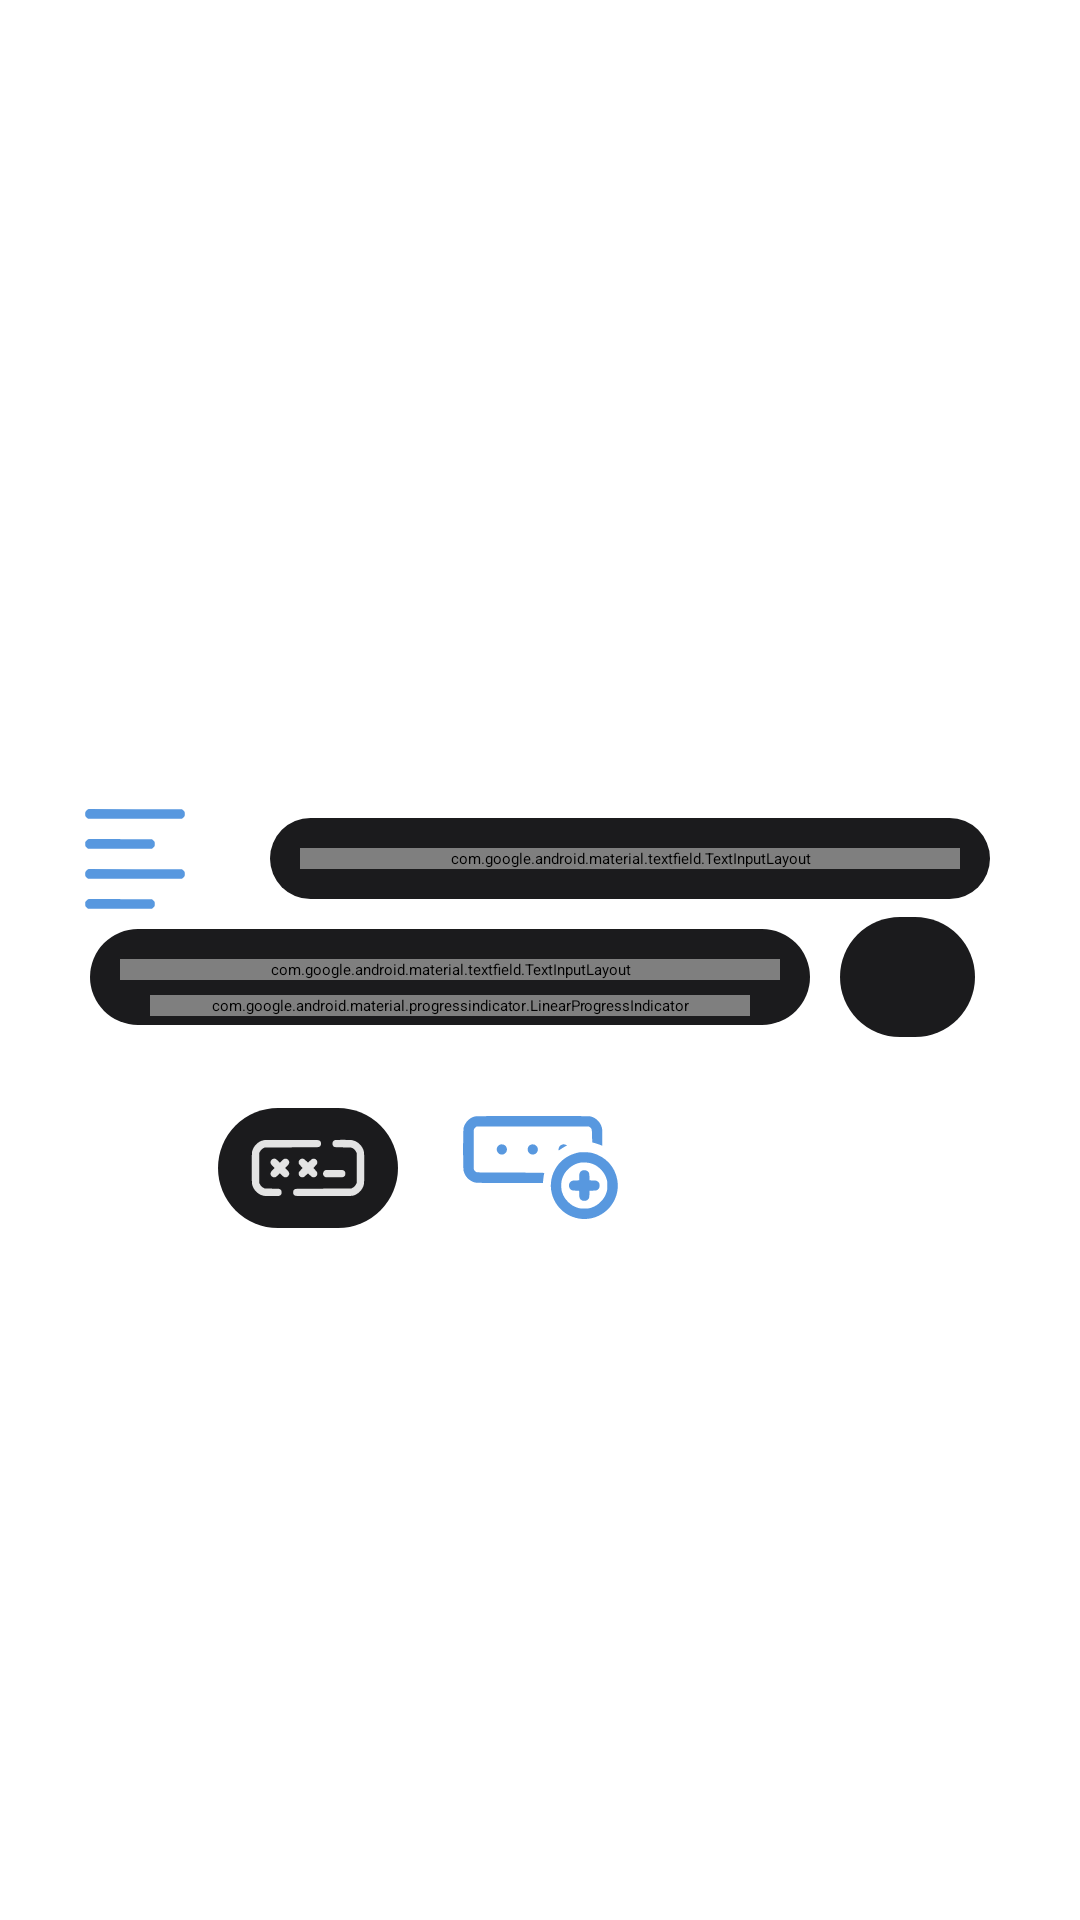

Where to tap for icons on this 1080x1920 app screen, as point (x, y):
add pass: point (540, 1167)
generator: point (308, 1168)
